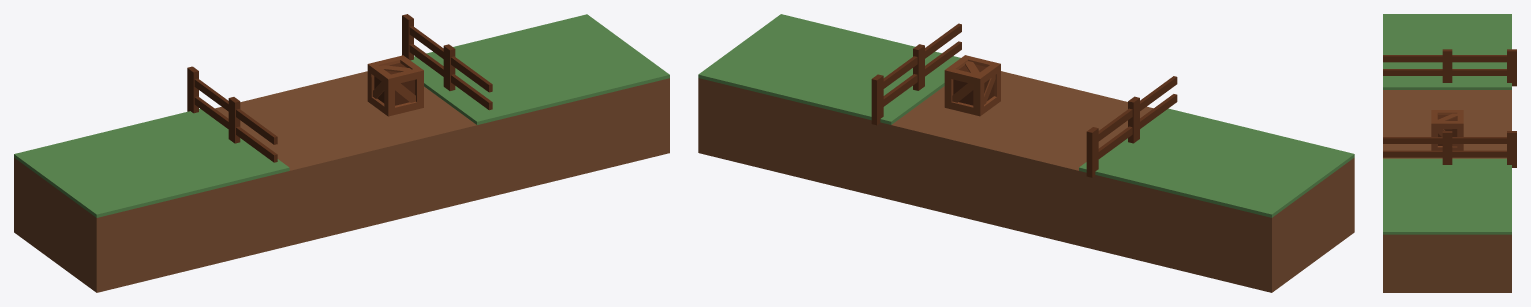
Rendered from chunk-04.obj.
The picture shows the model from 3 angles, left to right: view 1: azimuth 30°, elevation 25°; view 2: azimuth 150°, elevation 25°; view 3: azimuth 270°, elevation 25°; orthographic projection. The views are drawn at different scales.
Visible parts, largest first — view 1: Ground.001, road.003, crate.obj.001, Rails.013, Rails.009; view 2: Ground.001, road.003, crate.obj.001, Rails.013, Rails.009; view 3: road.003, Ground.001, Rails.013, Rails.009, crate.obj.001.
Part boxes in pixels (x1=…): Ground.001: x1=14, y1=71, x2=669, y2=292; road.003: x1=14, y1=14, x2=669, y2=217; crate.obj.001: x1=367, y1=55, x2=423, y2=116; Rails.013: x1=187, y1=66, x2=277, y2=162; Rails.009: x1=402, y1=14, x2=492, y2=110; Ground.001: x1=698, y1=71, x2=1354, y2=292; road.003: x1=698, y1=14, x2=1354, y2=217; crate.obj.001: x1=944, y1=55, x2=1000, y2=116; Rails.013: x1=1086, y1=76, x2=1177, y2=177; Rails.009: x1=871, y1=23, x2=961, y2=125; road.003: x1=1383, y1=14, x2=1511, y2=234; Ground.001: x1=1383, y1=90, x2=1511, y2=292; Rails.013: x1=1383, y1=49, x2=1516, y2=86; Rails.009: x1=1383, y1=131, x2=1516, y2=167; crate.obj.001: x1=1431, y1=110, x2=1463, y2=150.
Bounding box in the file's own units: 16 × 3.18 × 4.15.
